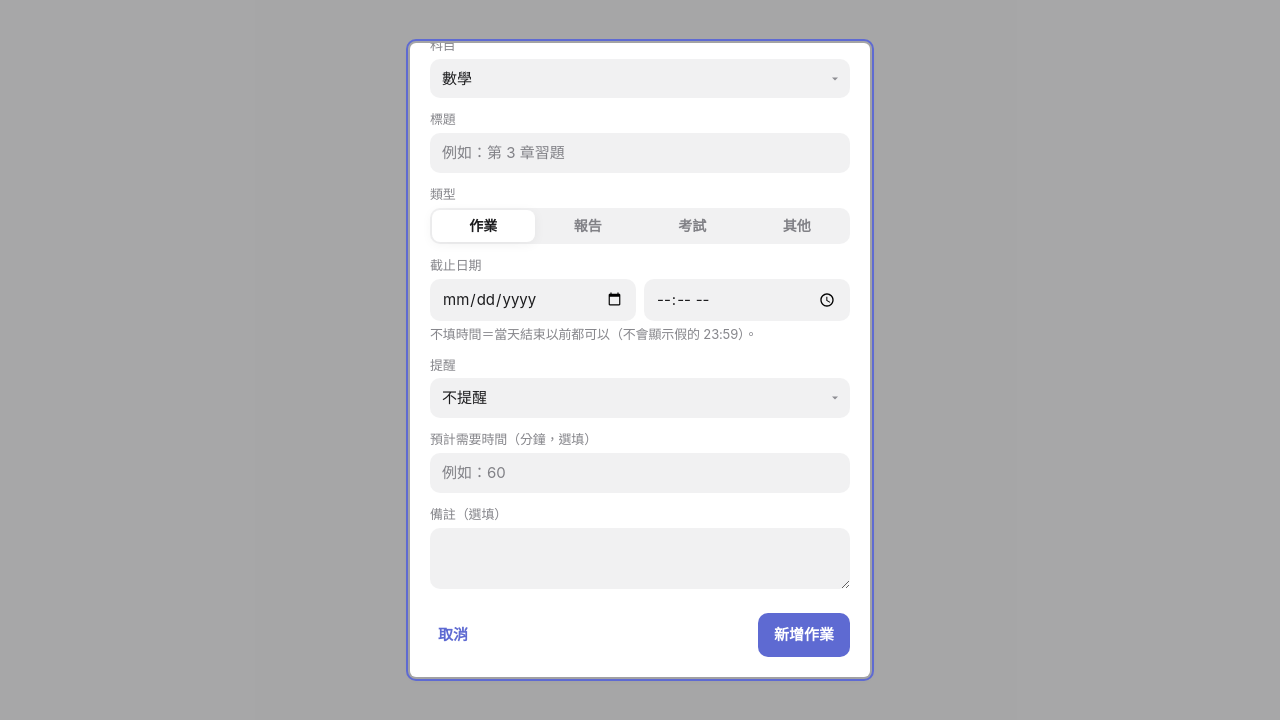
Test: 新增／編輯表單 › 缺名稱／缺日期會擋下、不打 API
(page scrolled)
Click the button "新增作業". click: (804, 635)
box: [758,613,850,657]
(page scrolled)
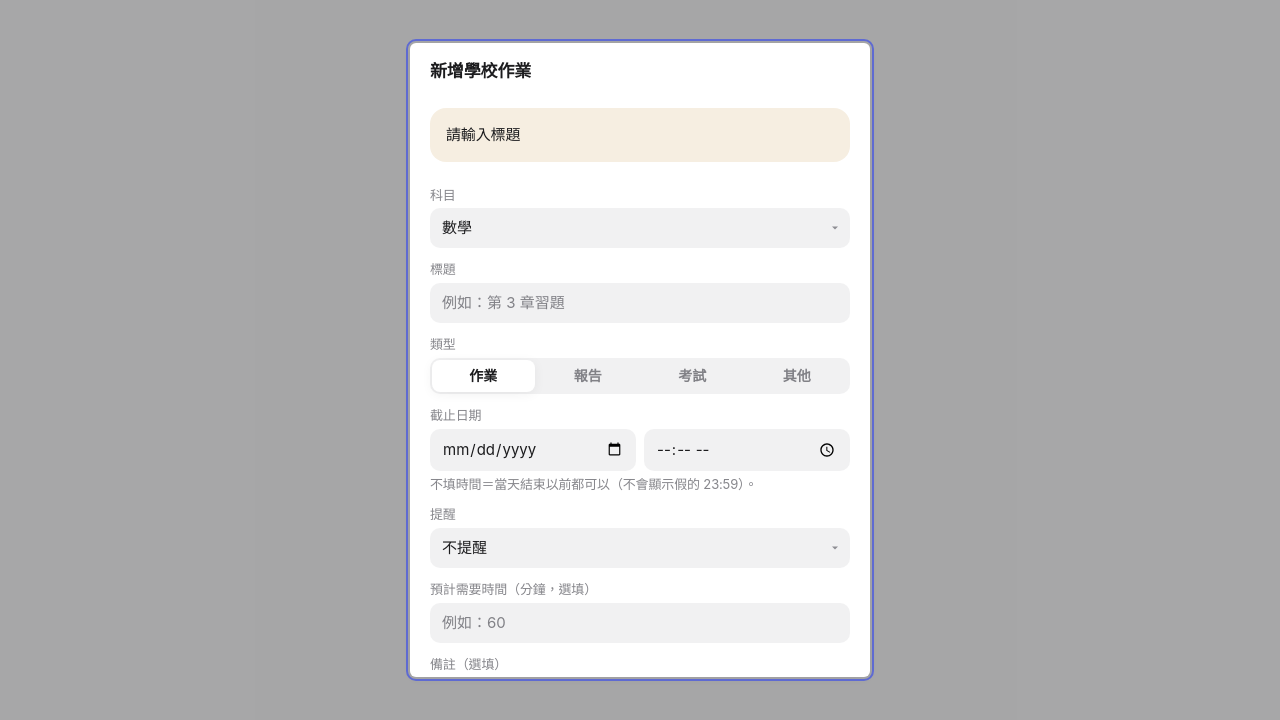
Result: the message "請輸入標題" is shown at [430,108,850,162]
